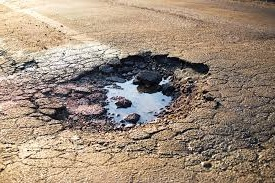pothole: (38, 50, 215, 144), (22, 56, 37, 75)
